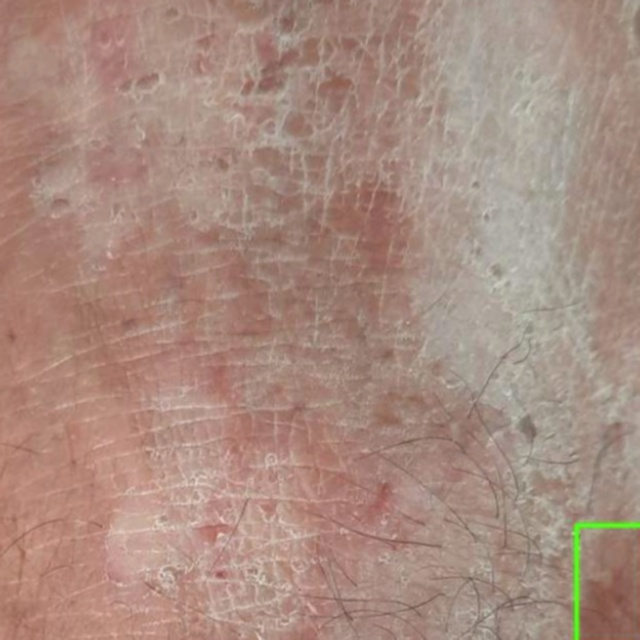Tinea Corporis: (576, 525, 639, 639)
